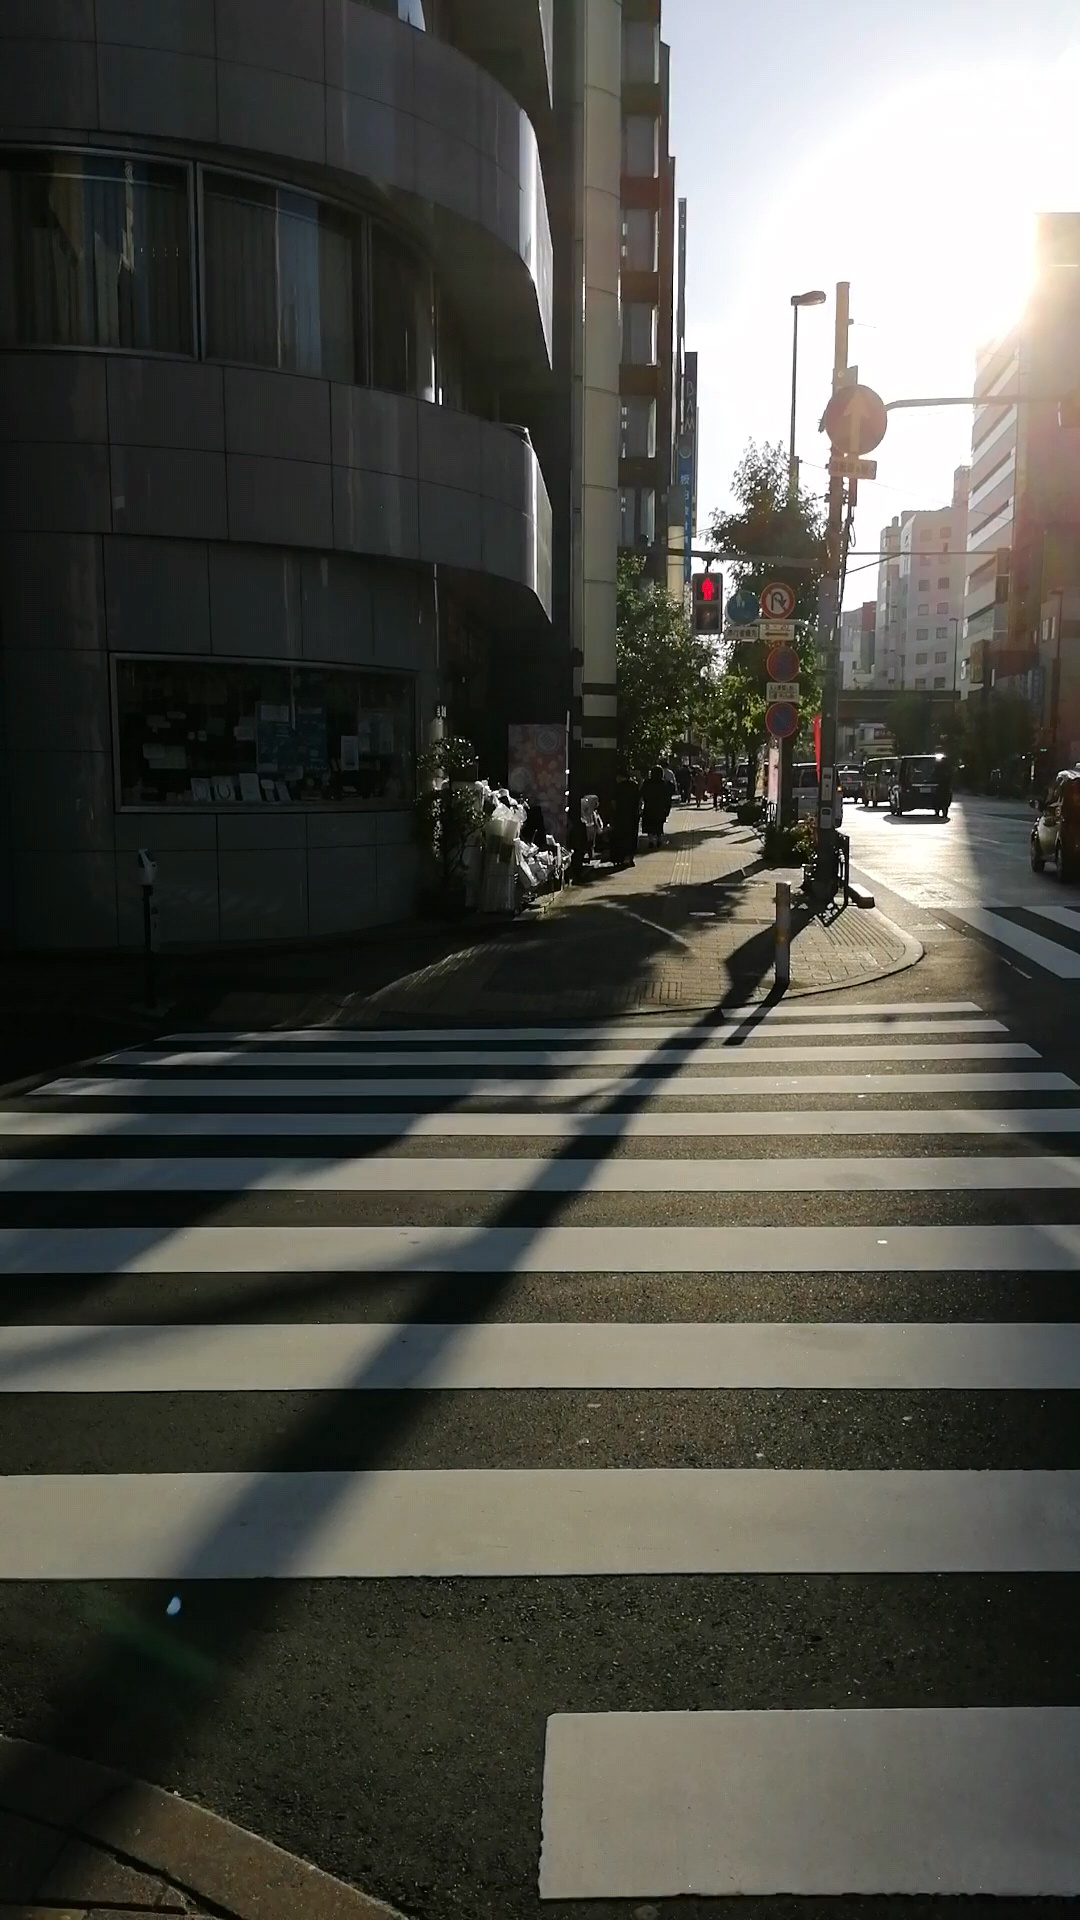red: (688, 571, 727, 636)
